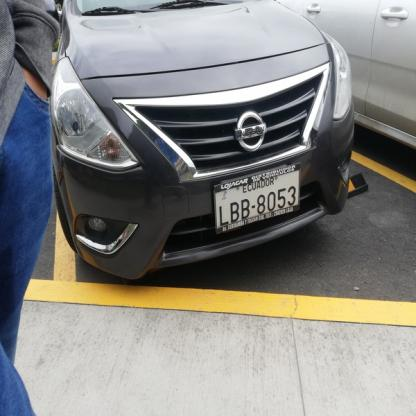Placa: (205, 161, 302, 227)
